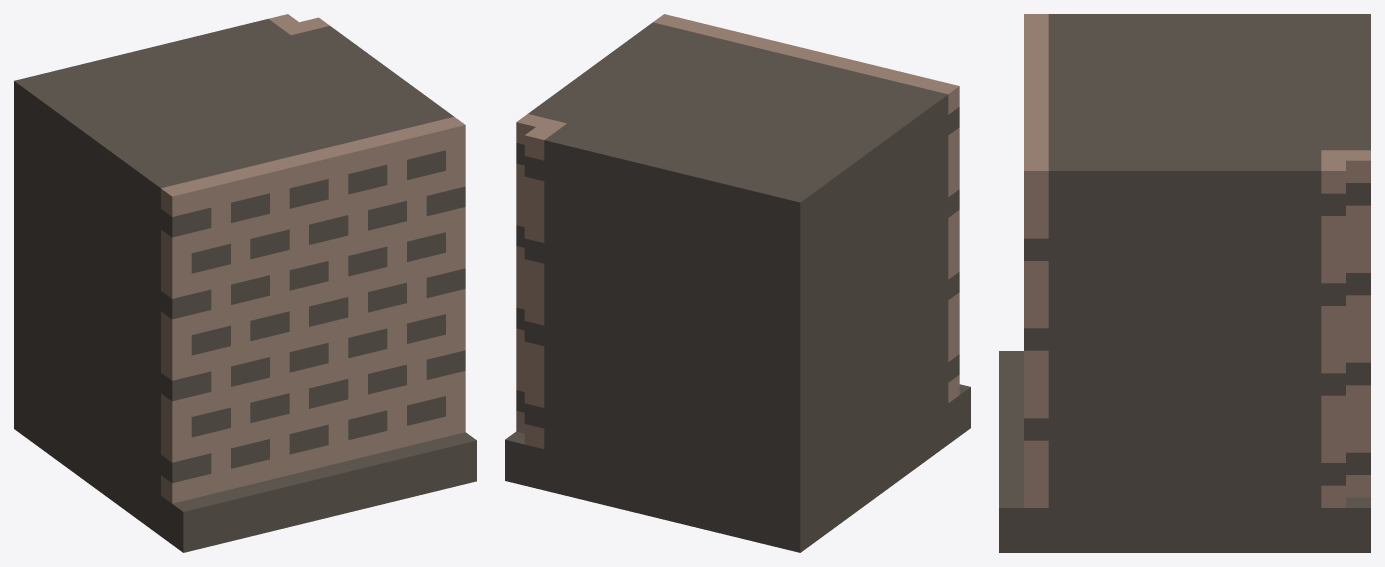
File: dungeon_a_b_outer_wall_segment_c_flipped.obj
The picture shows the model from 3 angles, left to right: view 1: azimuth 30°, elevation 25°; view 2: azimuth 150°, elevation 25°; view 3: azimuth 270°, elevation 25°; orthographic projection. The views are drawn at different scales.
Bounding box in the file's own units: 1.5 × 1.7 × 1.5.
1 material, 1 textured.
